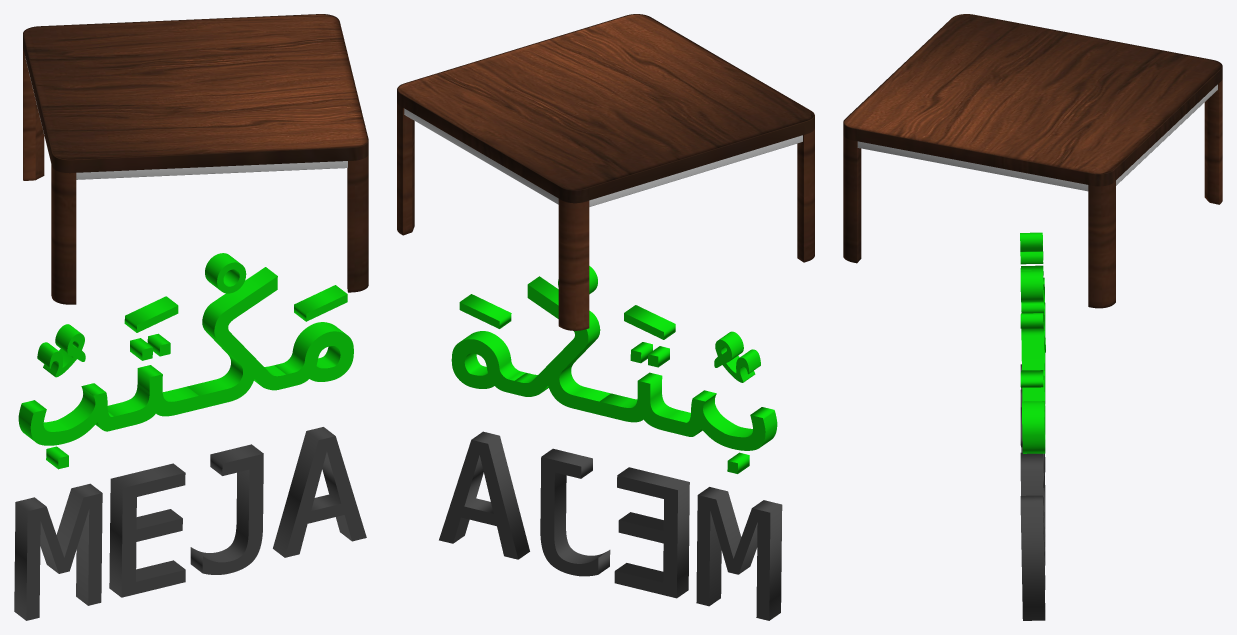
The model's file is table.fbx.
3 renders of one model, left to right at view 1: azimuth 30°, elevation 25°; view 2: azimuth 150°, elevation 25°; view 3: azimuth 270°, elevation 25°, orthographic. The views are drawn at different scales.
Visible parts, largest first — view 1: Cube, Text.005, Text, Cube.002, Text.004, Text.002, Text.003, Text.001; view 2: Cube, Text.005, Text, Cube.002, Text.004, Text.001, Text.003; view 3: Cube, Text.005, Text, Cube.002, Text.002, Text.004.
Part boxes in pixels (x1,y1,x2,y2): Cube: (23, 14, 368, 304); Text.005: (14, 427, 366, 620); Text: (18, 267, 353, 469); Cube.002: (25, 56, 347, 179); Text.004: (37, 324, 85, 377); Text.002: (205, 253, 246, 293); Text.003: (124, 296, 178, 332); Text.001: (294, 285, 347, 321); Cube: (397, 14, 814, 330); Text.005: (439, 431, 782, 620); Text: (451, 276, 777, 473); Cube.002: (404, 108, 802, 206); Text.004: (714, 331, 760, 382); Text.001: (459, 294, 511, 328); Text.003: (624, 305, 675, 339); Cube: (843, 14, 1222, 308); Text.005: (1020, 364, 1045, 620); Text: (1020, 277, 1045, 453); Cube.002: (857, 84, 1217, 191); Text.002: (1020, 270, 1043, 302); Text.004: (1020, 232, 1043, 264).
Size of the model in its own units: 337 by 445 by 337.
